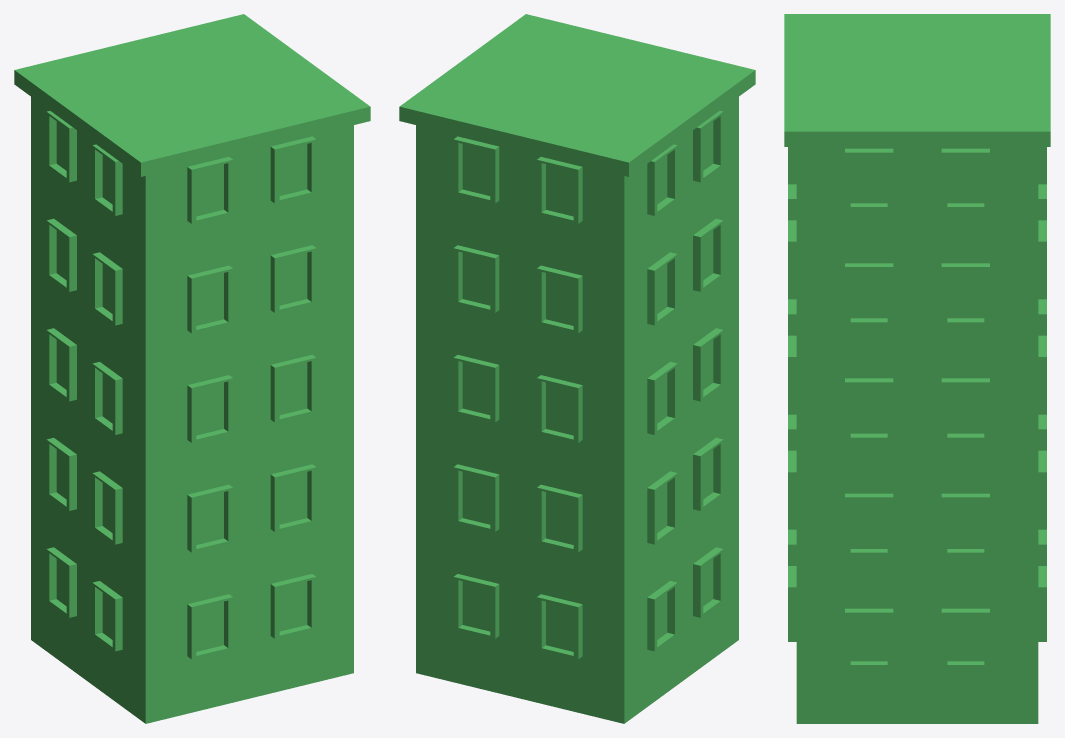
The model's file is VGA223_Kiriakidis_Alexandros_Building1.FBX.
The picture shows the model from 3 angles, left to right: view 1: azimuth 30°, elevation 25°; view 2: azimuth 150°, elevation 25°; view 3: azimuth 270°, elevation 25°; orthographic projection. The views are drawn at different scales.
Visible parts, largest first — view 1: Box005; view 2: Box005; view 3: Box005.
Part boxes in pixels (x1,y1,x2,y2): Box005: (14, 14, 370, 723); Box005: (399, 14, 755, 723); Box005: (784, 14, 1050, 723).
Bounding box in the file's own units: 2340 × 5535 × 2234.
